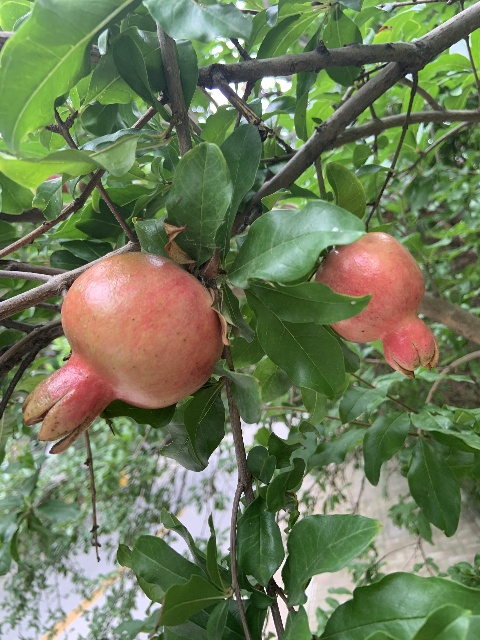ripe: (22, 250, 223, 453), (317, 231, 438, 377)
